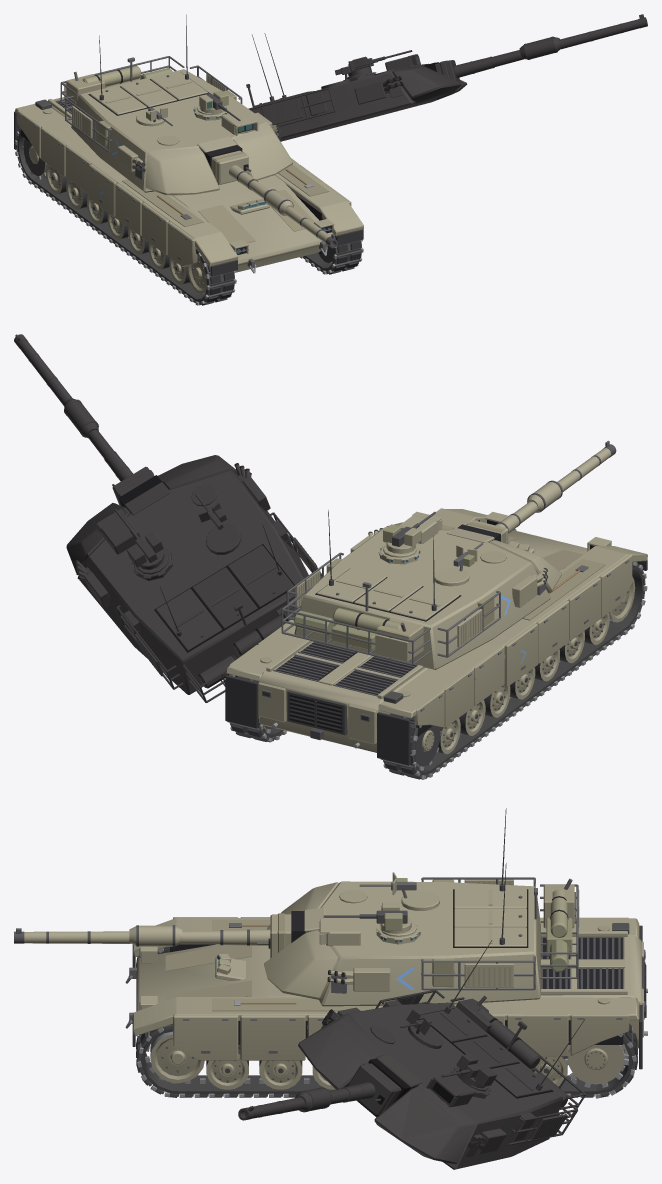
The model's file is tank__m1a1m_abrams.glb.
3 renders of one model, top to bottom at view 1: azimuth 30°, elevation 25°; view 2: azimuth 150°, elevation 25°; view 3: azimuth 270°, elevation 25°, orthographic. The views are drawn at different scales.
Parts seen in each view (by area): view 1: Hull_Mesh, Turret_Mesh, Wreck, Track_L_Mesh, Gun_Mesh, Track_R_Mesh, Gunner_Sight_Mesh, Commander_Weapon_Station_Mesh, Sprocket_L_Mesh, Idler_L_Mesh, Hatch_Loader_Mesh, Wheel_L0_Mesh (+1 smaller); view 2: Wreck, Hull_Mesh, Turret_Mesh, Track_L_Mesh, Gun_Mesh, Hatch_Loader_Mesh, Commander_Weapon_Station_Mesh, Sprocket_L_Mesh, Track_R_Mesh, Gunner_Sight_Mesh, Wheel_L1_Mesh; view 3: Wreck, Hull_Mesh, Turret_Mesh, Track_R_Mesh, Gun_Mesh, Sprocket_R_Mesh, Idler_R_Mesh, Wheel_R6_Mesh, Wheel_R5_Mesh, Gunner_Sight_Mesh, Hatch_Loader_Mesh, Commander_Weapon_Station_Mesh (+2 smaller).
Boxes of the visible parts, x1=… form: Hull_Mesh: x1=14, y1=77, x2=363, y2=276; Turret_Mesh: x1=60, y1=56, x2=292, y2=195; Wreck: x1=246, y1=14, x2=647, y2=141; Track_L_Mesh: x1=14, y1=127, x2=236, y2=305; Gun_Mesh: x1=211, y1=150, x2=337, y2=248; Track_R_Mesh: x1=300, y1=232, x2=363, y2=274; Gunner_Sight_Mesh: x1=221, y1=110, x2=258, y2=136; Commander_Weapon_Station_Mesh: x1=199, y1=90, x2=240, y2=121; Sprocket_L_Mesh: x1=22, y1=137, x2=46, y2=179; Idler_L_Mesh: x1=187, y1=255, x2=206, y2=294; Hatch_Loader_Mesh: x1=136, y1=107, x2=172, y2=126; Wheel_L0_Mesh: x1=45, y1=164, x2=67, y2=193; Wreck: x1=14, y1=334, x2=321, y2=702; Hull_Mesh: x1=225, y1=508, x2=647, y2=765; Turret_Mesh: x1=281, y1=522, x2=561, y2=669; Track_L_Mesh: x1=380, y1=561, x2=647, y2=779; Gun_Mesh: x1=466, y1=440, x2=616, y2=544; Hatch_Loader_Mesh: x1=434, y1=543, x2=483, y2=586; Commander_Weapon_Station_Mesh: x1=383, y1=511, x2=435, y2=553; Sprocket_L_Mesh: x1=415, y1=726, x2=441, y2=770; Track_R_Mesh: x1=227, y1=676, x2=286, y2=742; Gunner_Sight_Mesh: x1=399, y1=511, x2=442, y2=543; Wheel_L1_Mesh: x1=459, y1=700, x2=485, y2=735; Wreck: x1=238, y1=940, x2=586, y2=1169; Hull_Mesh: x1=125, y1=917, x2=647, y2=1069; Turret_Mesh: x1=264, y1=877, x2=579, y2=1006; Track_R_Mesh: x1=136, y1=1023, x2=637, y2=1098; Gun_Mesh: x1=14, y1=913, x2=291, y2=958; Sprocket_R_Mesh: x1=564, y1=1044, x2=628, y2=1087; Idler_R_Mesh: x1=150, y1=1031, x2=204, y2=1083; Wheel_R6_Mesh: x1=206, y1=1045, x2=248, y2=1089; Wheel_R5_Mesh: x1=259, y1=1060, x2=302, y2=1089; Gunner_Sight_Mesh: x1=319, y1=919, x2=360, y2=946; Hatch_Loader_Mesh: x1=359, y1=872, x2=439, y2=910; Commander_Weapon_Station_Mesh: x1=323, y1=902, x2=411, y2=933.
Size of what is drawn, in the model's own units: 11.14 by 3.67 by 9.79.
